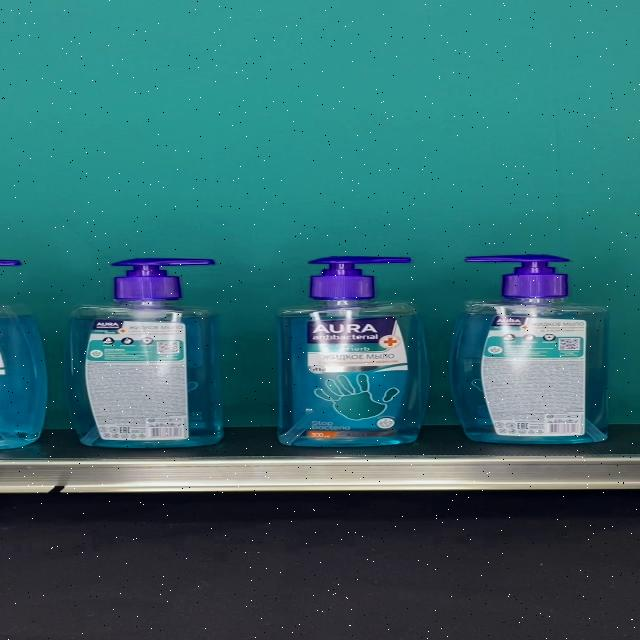Bottle: (450, 254, 610, 444), (66, 258, 225, 448), (276, 257, 430, 446)
Cap: (308, 257, 414, 300), (465, 255, 571, 297), (112, 258, 215, 300)
